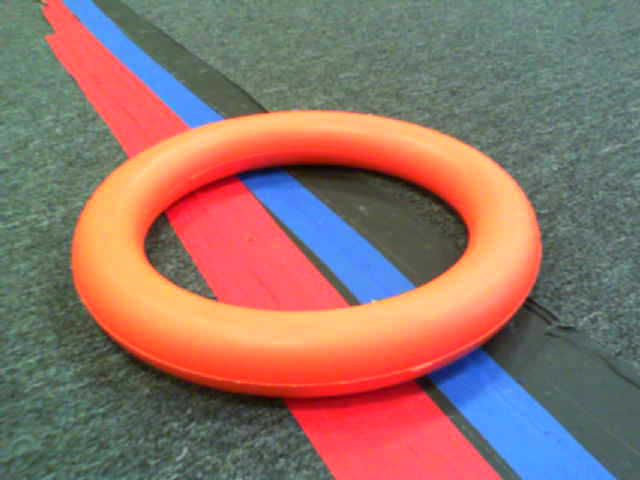Note: (74, 115, 550, 400)
